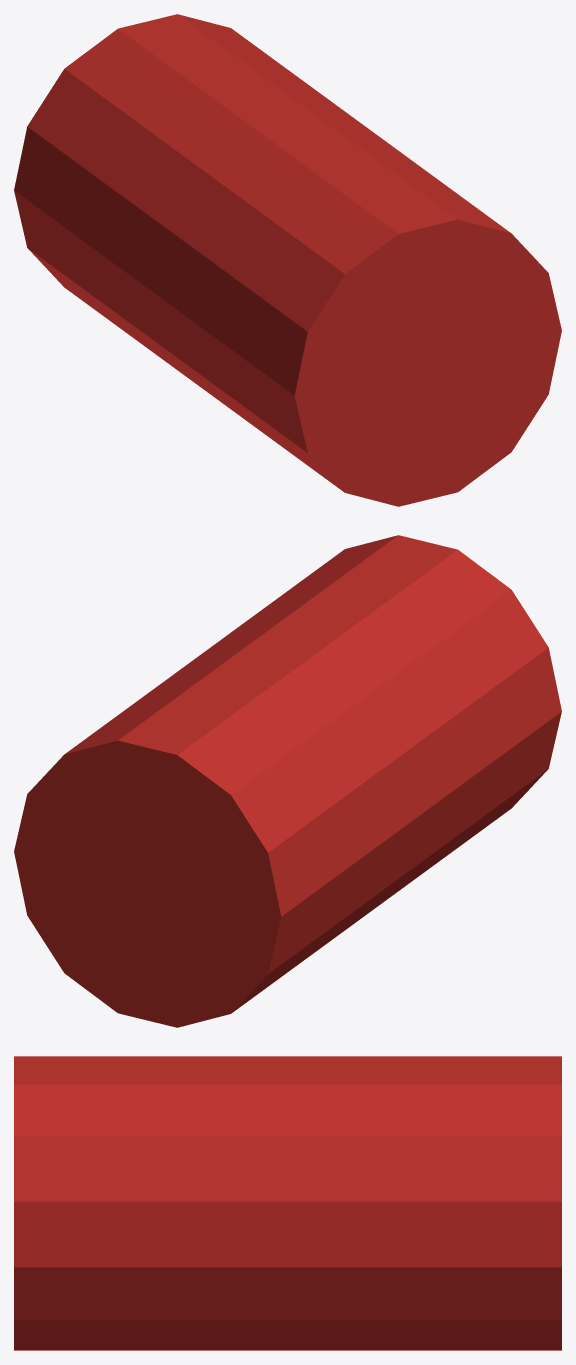
File: basura_lata.obj
3 renders of one model, top to bottom at view 1: azimuth 30°, elevation 25°; view 2: azimuth 150°, elevation 25°; view 3: azimuth 270°, elevation 25°, orthographic. The views are drawn at different scales.
Parts seen in each view (by area): view 1: Export_Lata; view 2: Export_Lata; view 3: Export_Lata.
Part boxes in pixels (x1=…): Export_Lata: x1=14, y1=14, x2=561, y2=506; Export_Lata: x1=14, y1=535, x2=561, y2=1027; Export_Lata: x1=14, y1=1056, x2=561, y2=1350.
Bounding box in the file's own units: 0.066 × 0.0643 × 0.12.
